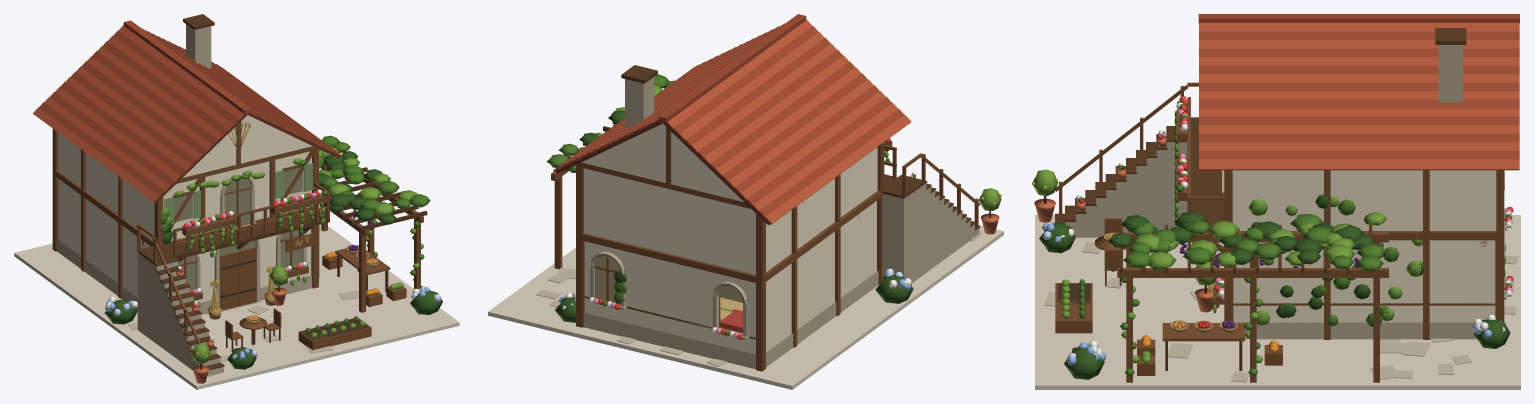
File: demeter_cabin.glb
3 views of the same model, side by side, from view 1: azimuth 30°, elevation 25°; view 2: azimuth 150°, elevation 25°; view 3: azimuth 270°, elevation 25° (orthographic). The views are drawn at different scales.
Visible parts, largest first — view 1: DEM_paving, DEM_stucco, DEM_timber, DEM_roof_tile_a, DEM_roof_tile_b, DEM_stone, DEM_timber_dark, DEM_leaf_light, DEM_leaf_dark, DEM_leaf, DEM_window, INT_plaster (+9 smaller); view 2: DEM_stucco, DEM_roof_tile_a, DEM_roof_tile_b, DEM_stone, DEM_paving, DEM_timber, INT_plaster, DEM_leaf_dark, DEM_timber_dark, DEM_window, DEM_roof_deck, DEM_leaf (+3 smaller); view 3: DEM_paving, DEM_roof_tile_b, DEM_roof_tile_a, DEM_stucco, DEM_timber, DEM_stone, INT_plaster, DEM_leaf_dark, DEM_leaf, DEM_leaf_light, DEM_timber_dark, DEM_paving_b (+7 smaller).
Boxes of the visible parts, x1,y1,x2,y2 form: DEM_paving: (14,224,459,389); DEM_stucco: (58,115,312,302); DEM_timber: (52,122,423,365); DEM_roof_tile_a: (33,25,342,202); DEM_roof_tile_b: (39,20,336,197); DEM_stone: (57,24,312,375); DEM_timber_dark: (138,14,427,370); DEM_leaf_light: (160,146,423,363); DEM_leaf_dark: (105,151,442,369); DEM_leaf: (160,135,430,333); DEM_window: (174,167,302,289); INT_plaster: (58,179,311,287); DEM_stucco: (581,123,877,354); DEM_roof_tile_a: (553,20,911,224); DEM_roof_tile_b: (560,14,904,218); DEM_stone: (583,77,979,369); DEM_paving: (488,225,1003,389); DEM_timber: (551,127,979,371); INT_plaster: (584,244,755,353); DEM_leaf_dark: (555,110,913,322); DEM_timber_dark: (564,65,990,230); DEM_window: (595,256,742,303); DEM_roof_deck: (556,121,769,225); DEM_leaf: (546,74,915,336); DEM_paving: (1035,215,1520,389); DEM_roof_tile_b: (1198,14,1519,159); DEM_roof_tile_a: (1199,23,1519,170); DEM_stucco: (1232,170,1496,322); DEM_timber: (1054,82,1504,382); DEM_stone: (1065,45,1506,339); INT_plaster: (1233,240,1495,322); DEM_leaf_dark: (1039,194,1510,379); DEM_leaf: (1078,104,1512,375); DEM_leaf_light: (1032,121,1422,363); DEM_timber_dark: (1044,28,1466,370); DEM_paving_b: (1044,222,1518,382).
Size of what is drawn, in the model's own units: 10.27 by 7.7 by 11.87.
